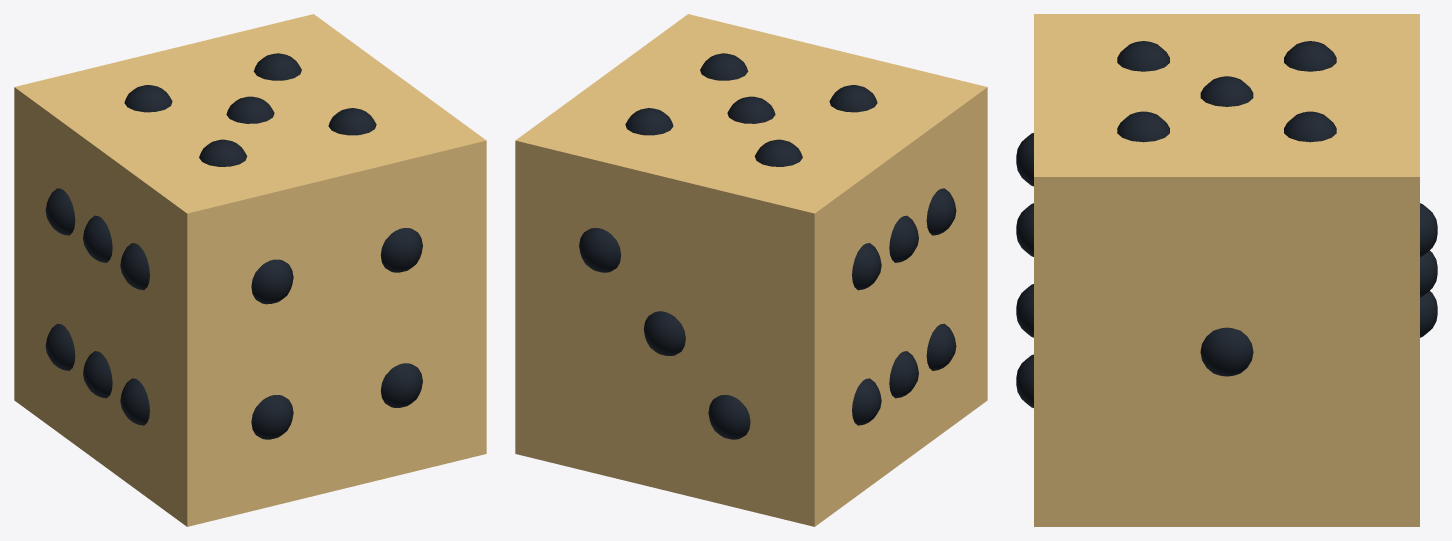
Rendered from dice.glb.
The picture shows the model from 3 angles, left to right: view 1: azimuth 30°, elevation 25°; view 2: azimuth 150°, elevation 25°; view 3: azimuth 270°, elevation 25°; orthographic projection. The views are drawn at different scales.
Visible parts, largest first — view 1: gold, black; view 2: gold, black; view 3: gold, black.
Boxes of the visible parts, box(x1,y1,x2,y2) form: gold: box(14, 14, 486, 526); black: box(45, 53, 422, 439); gold: box(515, 14, 987, 526); black: box(579, 53, 956, 439); gold: box(1034, 14, 1419, 526); black: box(1016, 41, 1437, 407).
Bounding box in the file's own units: 1.37 × 1.37 × 1.37.
